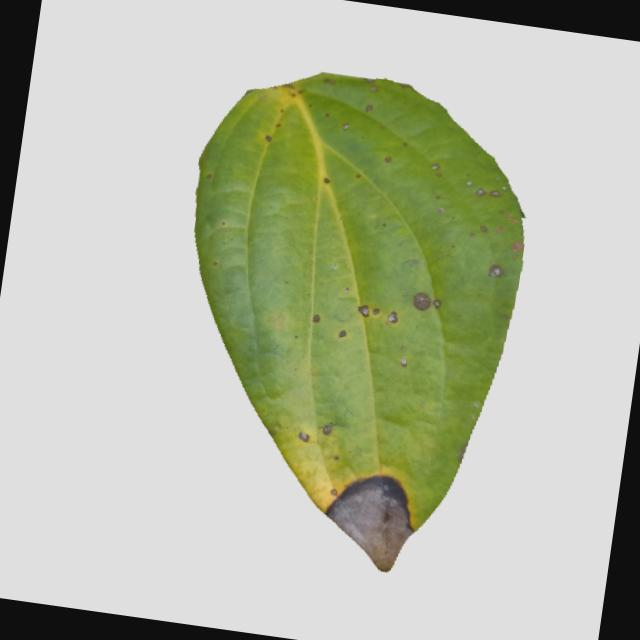leaf-blight: (128, 57, 563, 590)
